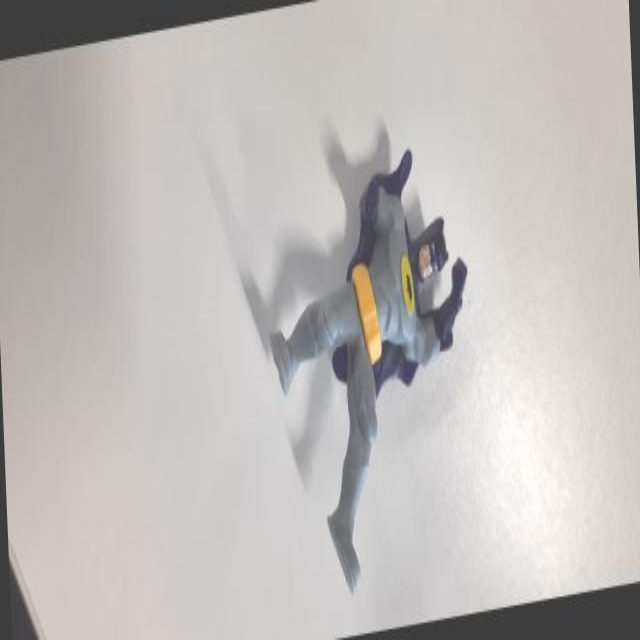Batman: (259, 138, 480, 613)
